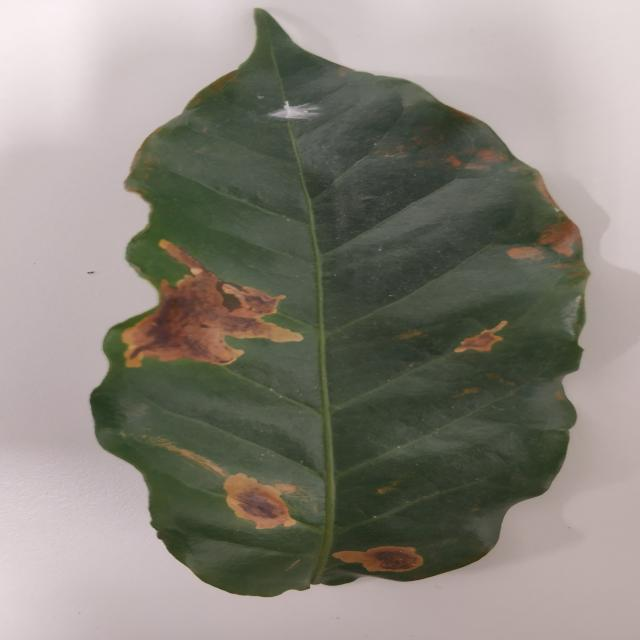Plaga-Minador: (88, 9, 591, 601)
